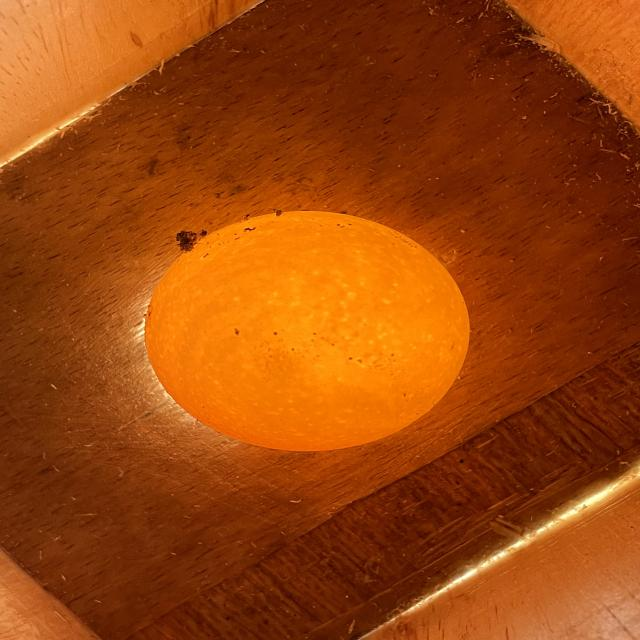infertile: (145, 211, 470, 451)
